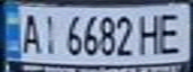2: (115, 11, 139, 57)
6: (60, 11, 84, 56), (81, 11, 100, 57)
8: (97, 12, 118, 57)
A: (15, 9, 42, 55)
E: (154, 8, 187, 55)
H: (136, 10, 166, 56)
I: (36, 10, 60, 55)
